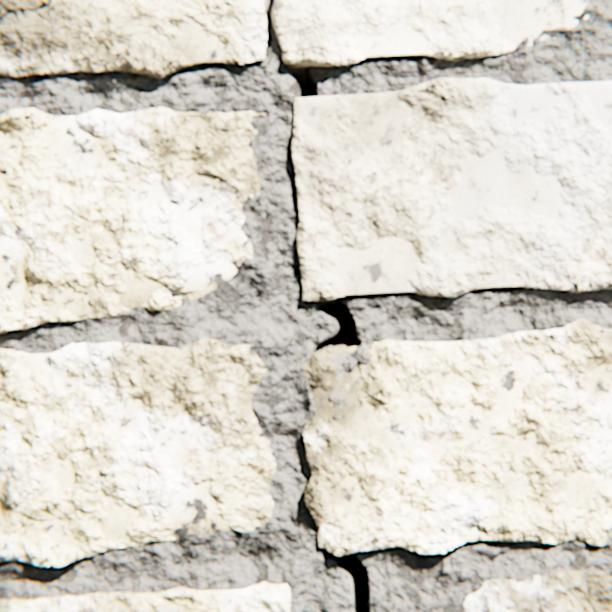brick: (300, 318, 611, 553), (291, 79, 611, 300), (0, 338, 275, 565), (0, 108, 265, 332), (0, 0, 268, 80), (272, 0, 587, 67), (0, 580, 290, 611), (463, 568, 611, 611), (0, 0, 49, 17), (345, 347, 356, 353), (539, 37, 547, 41)
crack: (324, 547, 370, 611), (314, 298, 358, 354), (0, 0, 55, 30), (288, 66, 316, 98), (51, 32, 54, 50)
